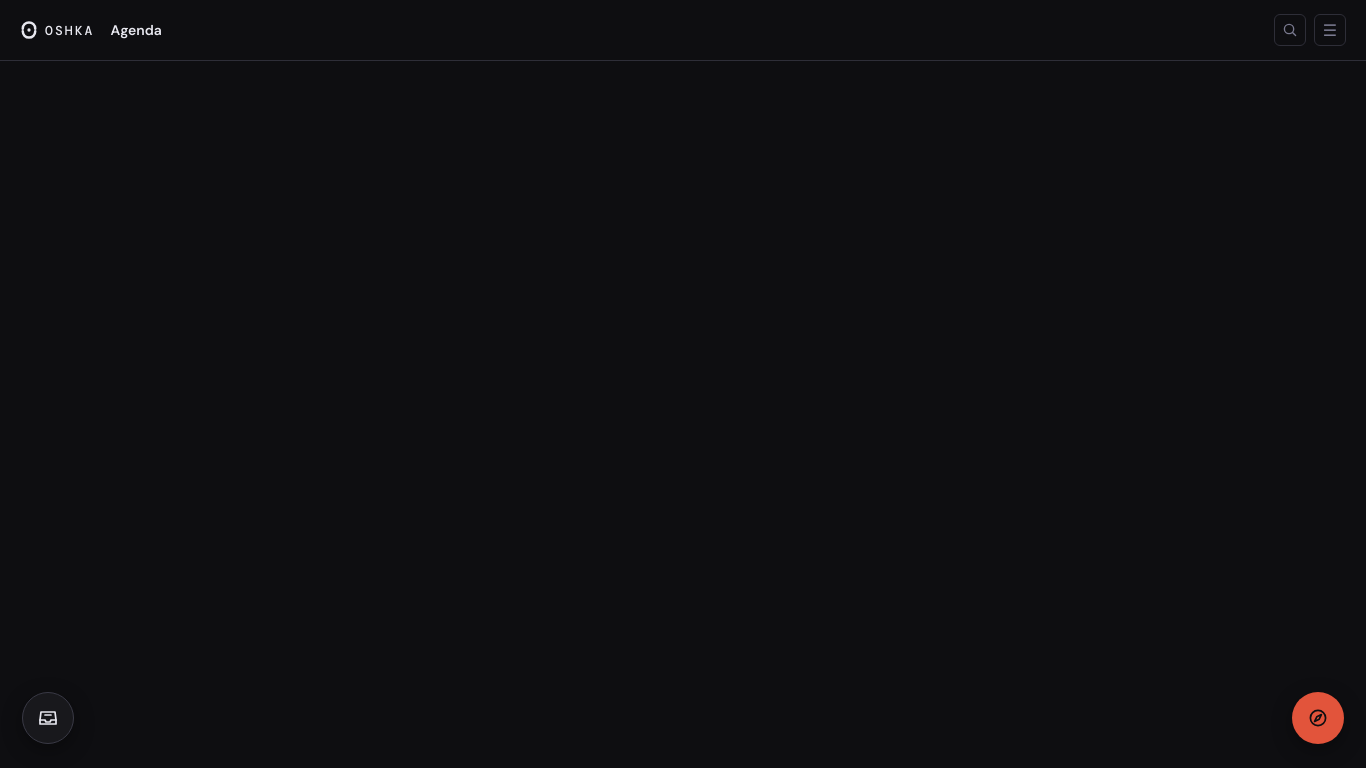
Test: mobile Clean section › closes the header menu after archiving
The width and height of the screenshot is (1366, 768).
Click the button titled "Menu".
click(1330, 30)  # box [1314,14,1346,46]
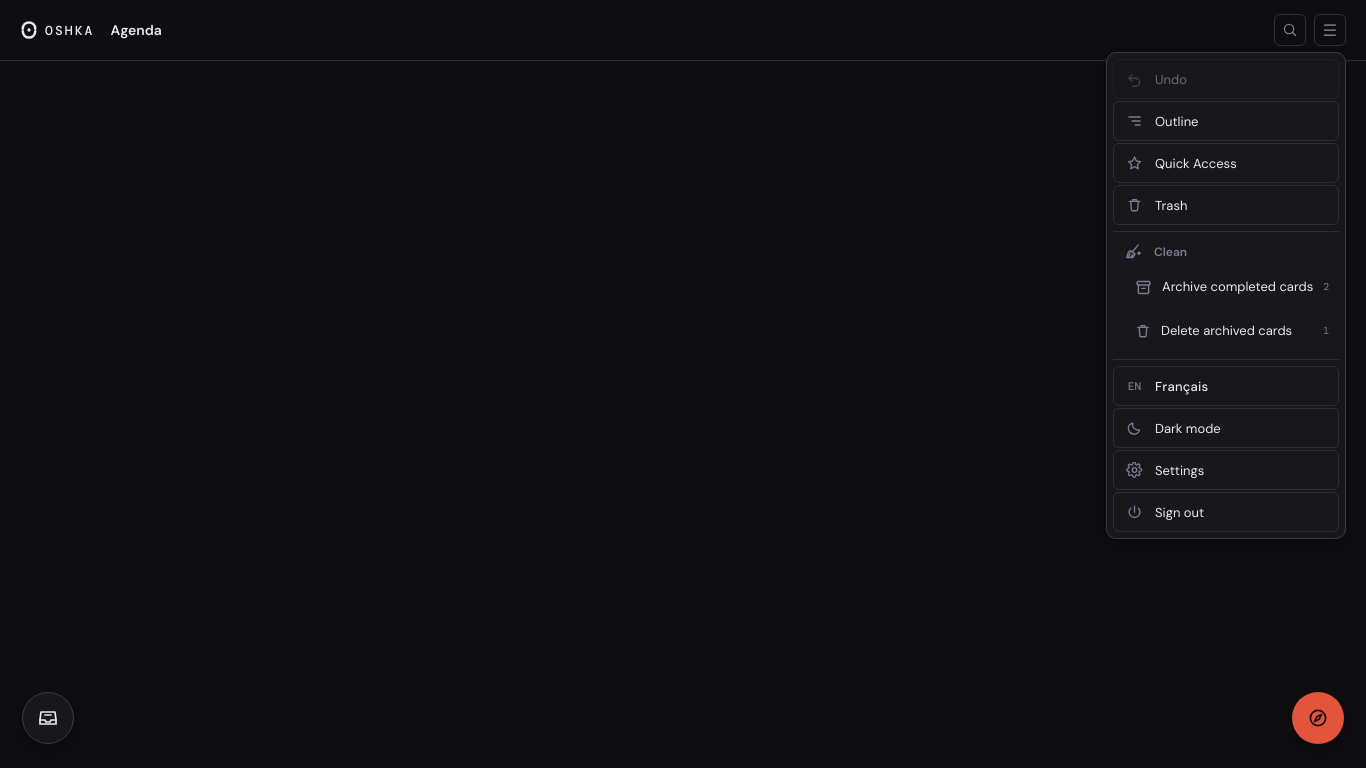
Now the element with class "cleanup-mobile" is shown, box [1113,231,1339,360]
Click the button with class "cleanup-action" showing "Archive completed cards 2".
click(1232, 287)  # box [1125,265,1339,309]
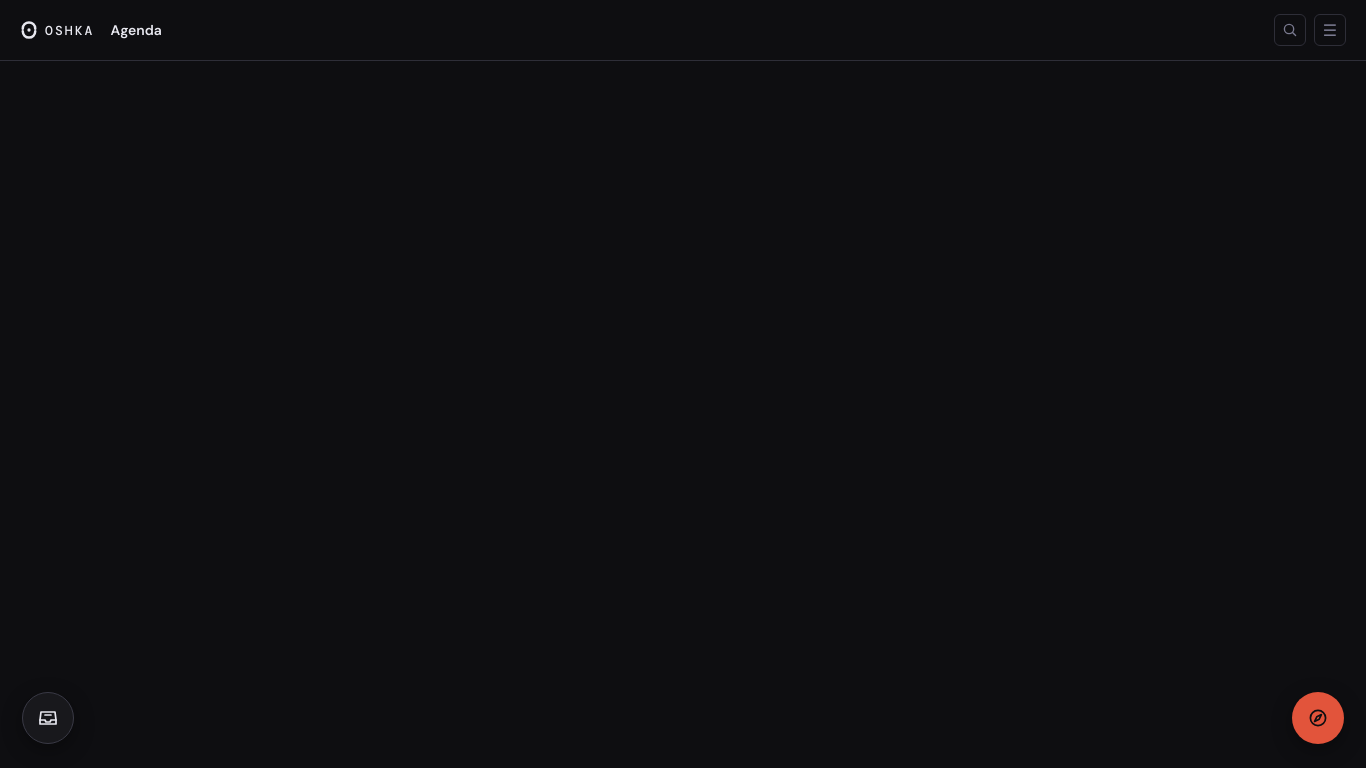
Now the element with class "header-menu" is gone
